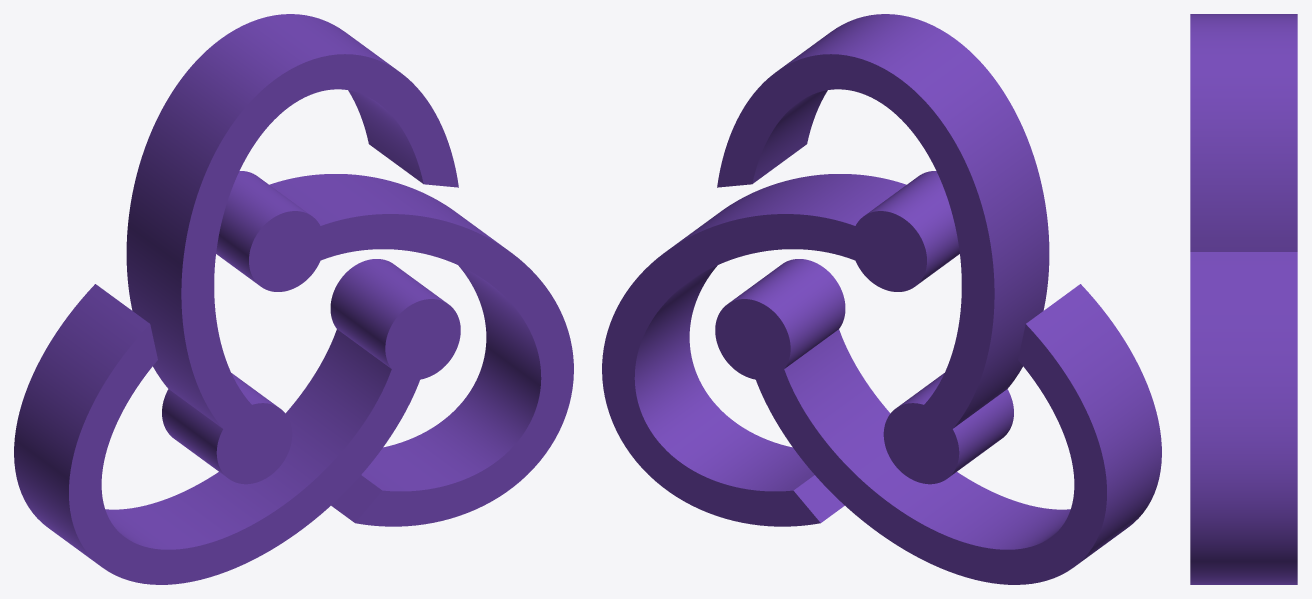
File: IconRedux.gltf
The picture shows the model from 3 angles, left to right: view 1: azimuth 30°, elevation 25°; view 2: azimuth 150°, elevation 25°; view 3: azimuth 270°, elevation 25°; orthographic projection.
Parts seen in each view (by area): view 1: IconRedux; view 2: IconRedux; view 3: IconRedux.
Boxes of the visible parts, x1,y1,x2,y2 form: IconRedux: (14,14,573,584); IconRedux: (602,14,1161,584); IconRedux: (1190,14,1297,584).
Bounding box in the file's own units: 2.13 × 1.99 × 0.4.
